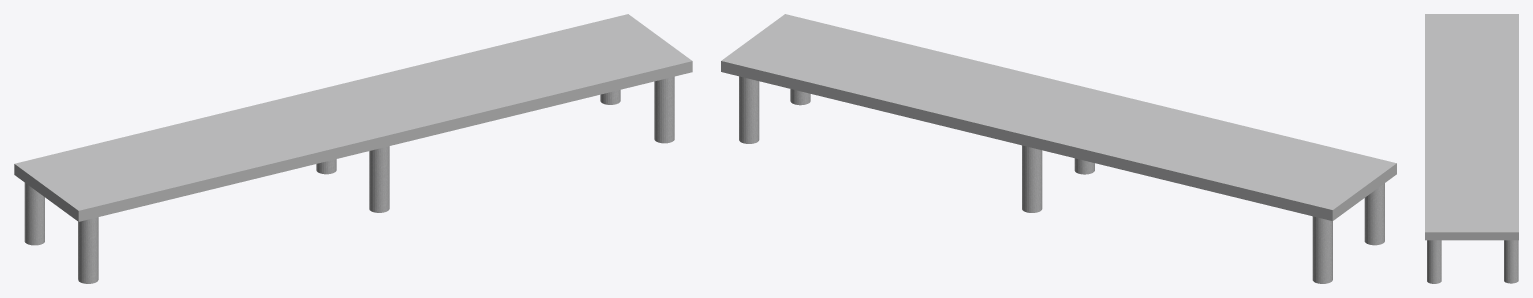
Rendered from bridge.obj.
The picture shows the model from 3 angles, left to right: view 1: azimuth 30°, elevation 25°; view 2: azimuth 150°, elevation 25°; view 3: azimuth 270°, elevation 25°; orthographic projection. The views are drawn at different scales.
Visible parts, largest first — view 1: bridge; view 2: bridge; view 3: bridge.
Part boxes in pixels (left/top/right/bottom): bridge: left=14, top=14, right=692, bottom=283; bridge: left=721, top=14, right=1396, bottom=283; bridge: left=1425, top=14, right=1518, bottom=283.
Size of the model in its own units: 9.11 by 1.1 by 1.65.
1 material, 1 textured.
